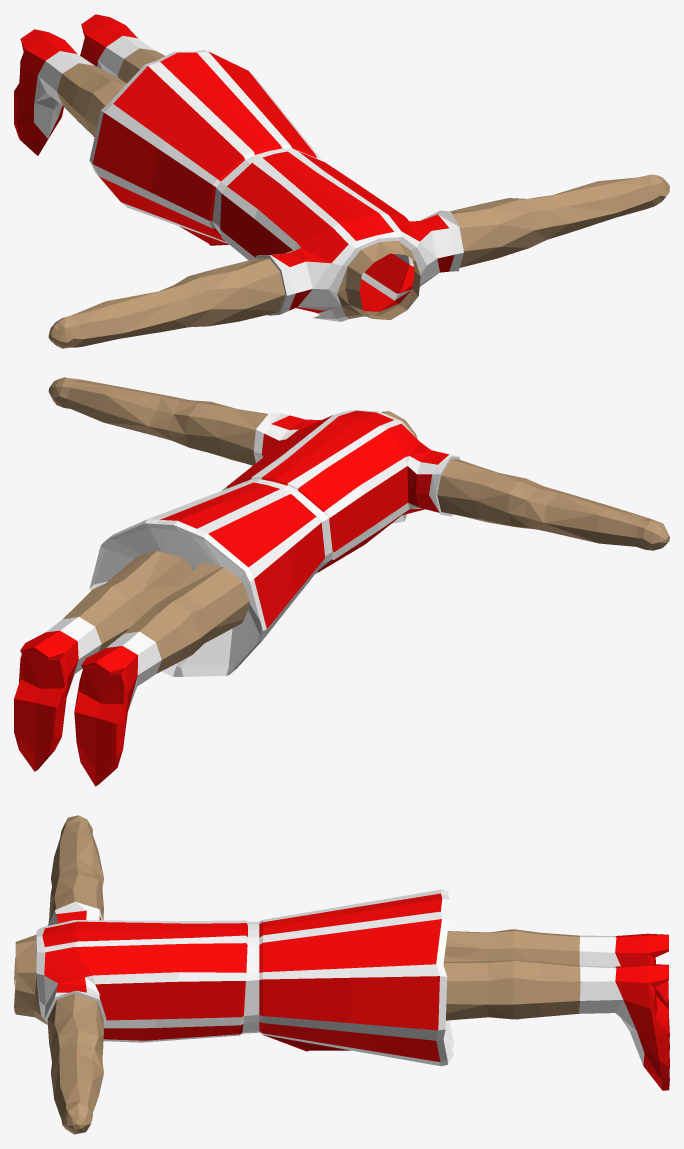
The model's file is Shopkeeper.glb.
The picture shows the model from 3 angles, top to bottom: view 1: azimuth 30°, elevation 25°; view 2: azimuth 150°, elevation 25°; view 3: azimuth 270°, elevation 25°; orthographic projection.
Parts seen in each view (by area): view 1: Shopkeeper; view 2: Shopkeeper; view 3: Shopkeeper.
Part boxes in pixels (x1=…): Shopkeeper: x1=14, y1=14, x2=669, y2=348; Shopkeeper: x1=14, y1=377, x2=669, y2=786; Shopkeeper: x1=14, y1=815, x2=669, y2=1134.
Size of the model in its own units: 1.21 by 0.3306 by 1.11.
Materials: 1 (1 with a texture image).
